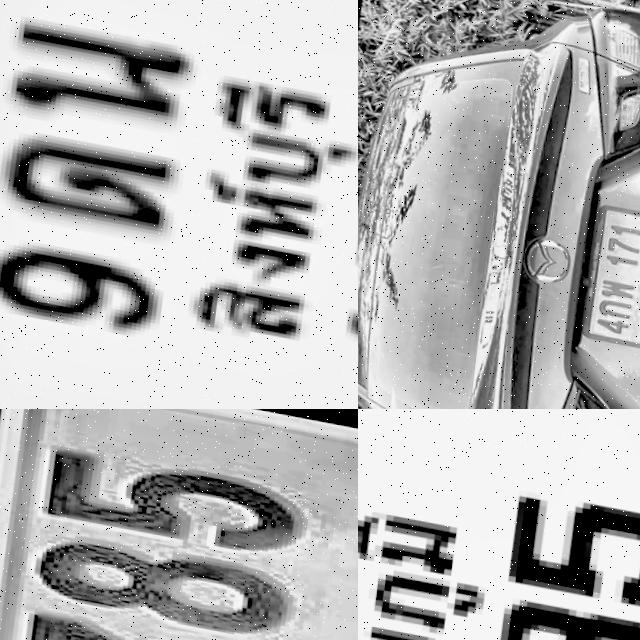license-plate: (0, 0, 358, 409), (0, 409, 358, 640), (358, 409, 640, 640), (576, 196, 640, 350)
